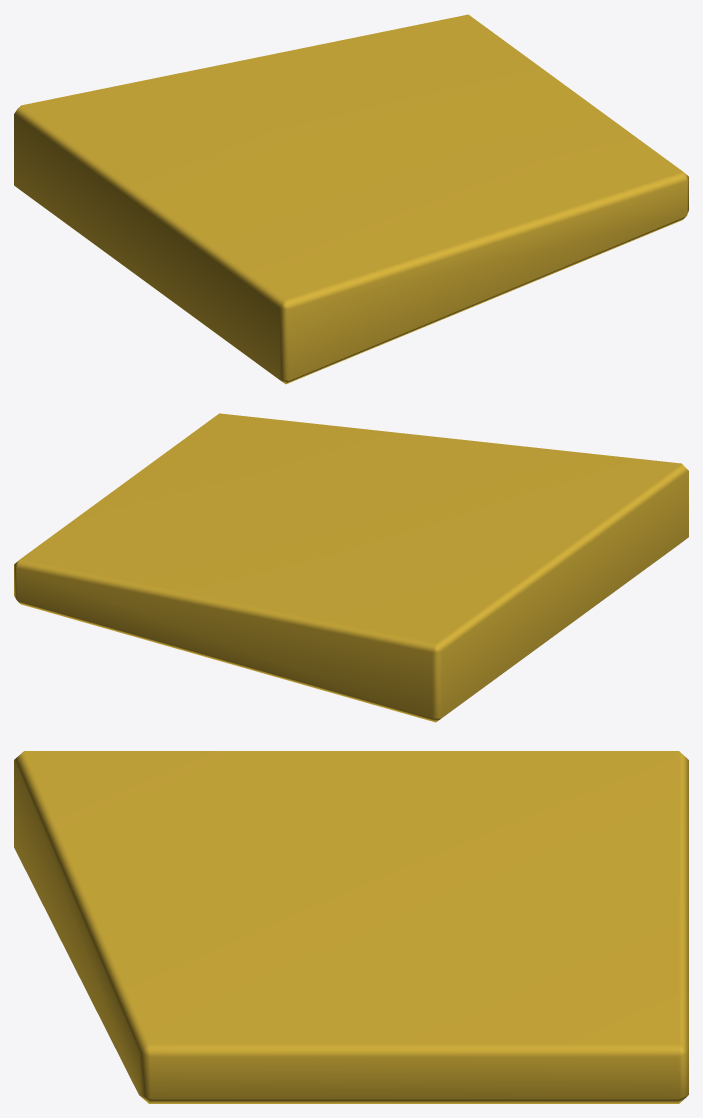
File: Lowpoly_Wing.fbx
3 views of the same model, one above another, from view 1: azimuth 30°, elevation 25°; view 2: azimuth 150°, elevation 25°; view 3: azimuth 270°, elevation 25° (orthographic). The views are drawn at different scales.
Visible parts, largest first — view 1: Wing; view 2: Wing; view 3: Wing.
Part boxes in pixels (x1=…): Wing: x1=14, y1=14, x2=688, y2=384; Wing: x1=14, y1=413, x2=688, y2=722; Wing: x1=14, y1=751, x2=688, y2=1103.
Bounding box in the file's own units: 204 × 35.99 × 209.
